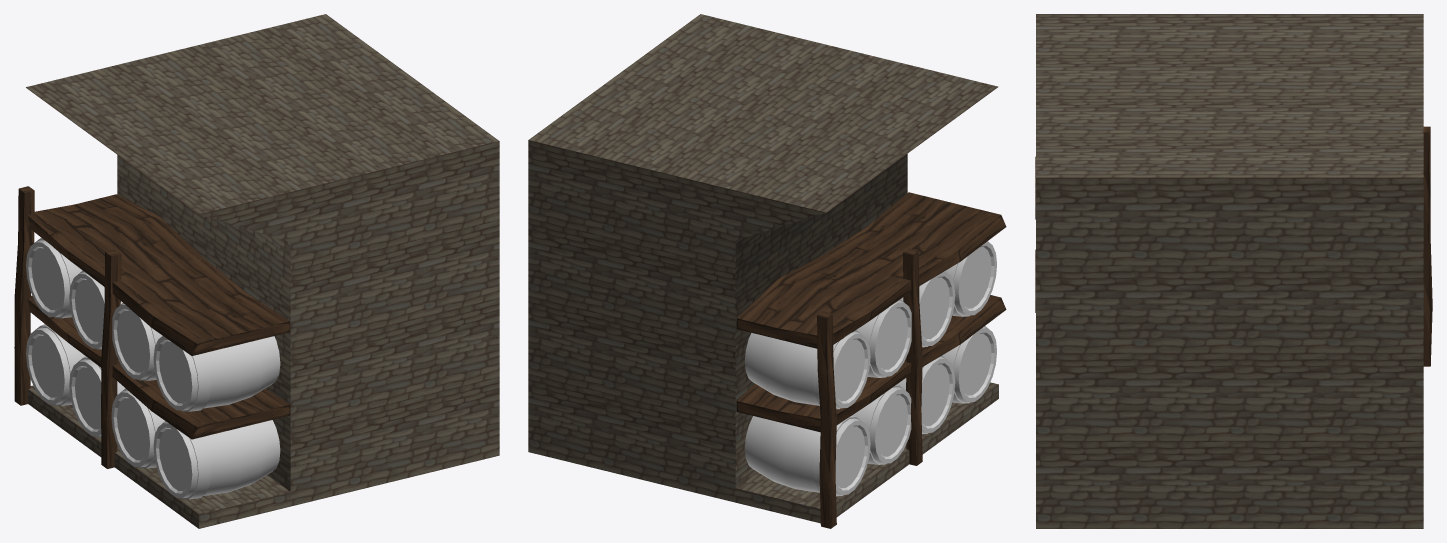
File: WR_Wall_barrels_1.FBX
3 views of the same model, side by side, from view 1: azimuth 30°, elevation 25°; view 2: azimuth 150°, elevation 25°; view 3: azimuth 270°, elevation 25° (orthographic). The views are drawn at different scales.
Parts seen in each view (by area): view 1: Box001, Box013, Cylinder009, Cylinder008, Box008, Box007, Cylinder013, Cylinder005, Box014, Cylinder014, Cylinder011, Cylinder012 (+1 smaller); view 2: Box001, Box013, Cylinder013, Cylinder005, Box008, Box007, Cylinder002, Box014, Cylinder012, Cylinder009, Cylinder008, Cylinder014 (+1 smaller); view 3: Box001, Box007.
Part boxes in pixels (bbox=[...]): Box001: bbox=[26, 14, 499, 528]; Box013: bbox=[28, 194, 290, 355]; Cylinder009: bbox=[153, 420, 280, 499]; Cylinder008: bbox=[153, 336, 280, 411]; Box008: bbox=[28, 295, 290, 439]; Box007: bbox=[14, 186, 34, 405]; Cylinder013: bbox=[26, 324, 85, 405]; Cylinder005: bbox=[26, 238, 82, 318]; Box014: bbox=[101, 249, 121, 468]; Cylinder014: bbox=[111, 388, 164, 468]; Cylinder011: bbox=[112, 303, 162, 380]; Cylinder012: bbox=[69, 270, 122, 349]; Box001: bbox=[528, 14, 998, 523]; Box013: bbox=[736, 192, 1006, 348]; Cylinder013: bbox=[744, 415, 870, 496]; Cylinder005: bbox=[744, 330, 870, 409]; Box008: bbox=[736, 295, 1006, 432]; Box007: bbox=[817, 311, 836, 528]; Cylinder002: bbox=[852, 384, 911, 464]; Box014: bbox=[903, 248, 922, 465]; Cylinder012: bbox=[856, 299, 911, 377]; Cylinder009: bbox=[942, 326, 996, 403]; Cylinder008: bbox=[945, 241, 996, 316]; Cylinder014: bbox=[897, 355, 955, 434]; Box001: bbox=[1036, 14, 1423, 528]; Box007: bbox=[1423, 126, 1432, 366].
Bounding box in the file's own units: 26.02 × 25.4 × 26.04.
